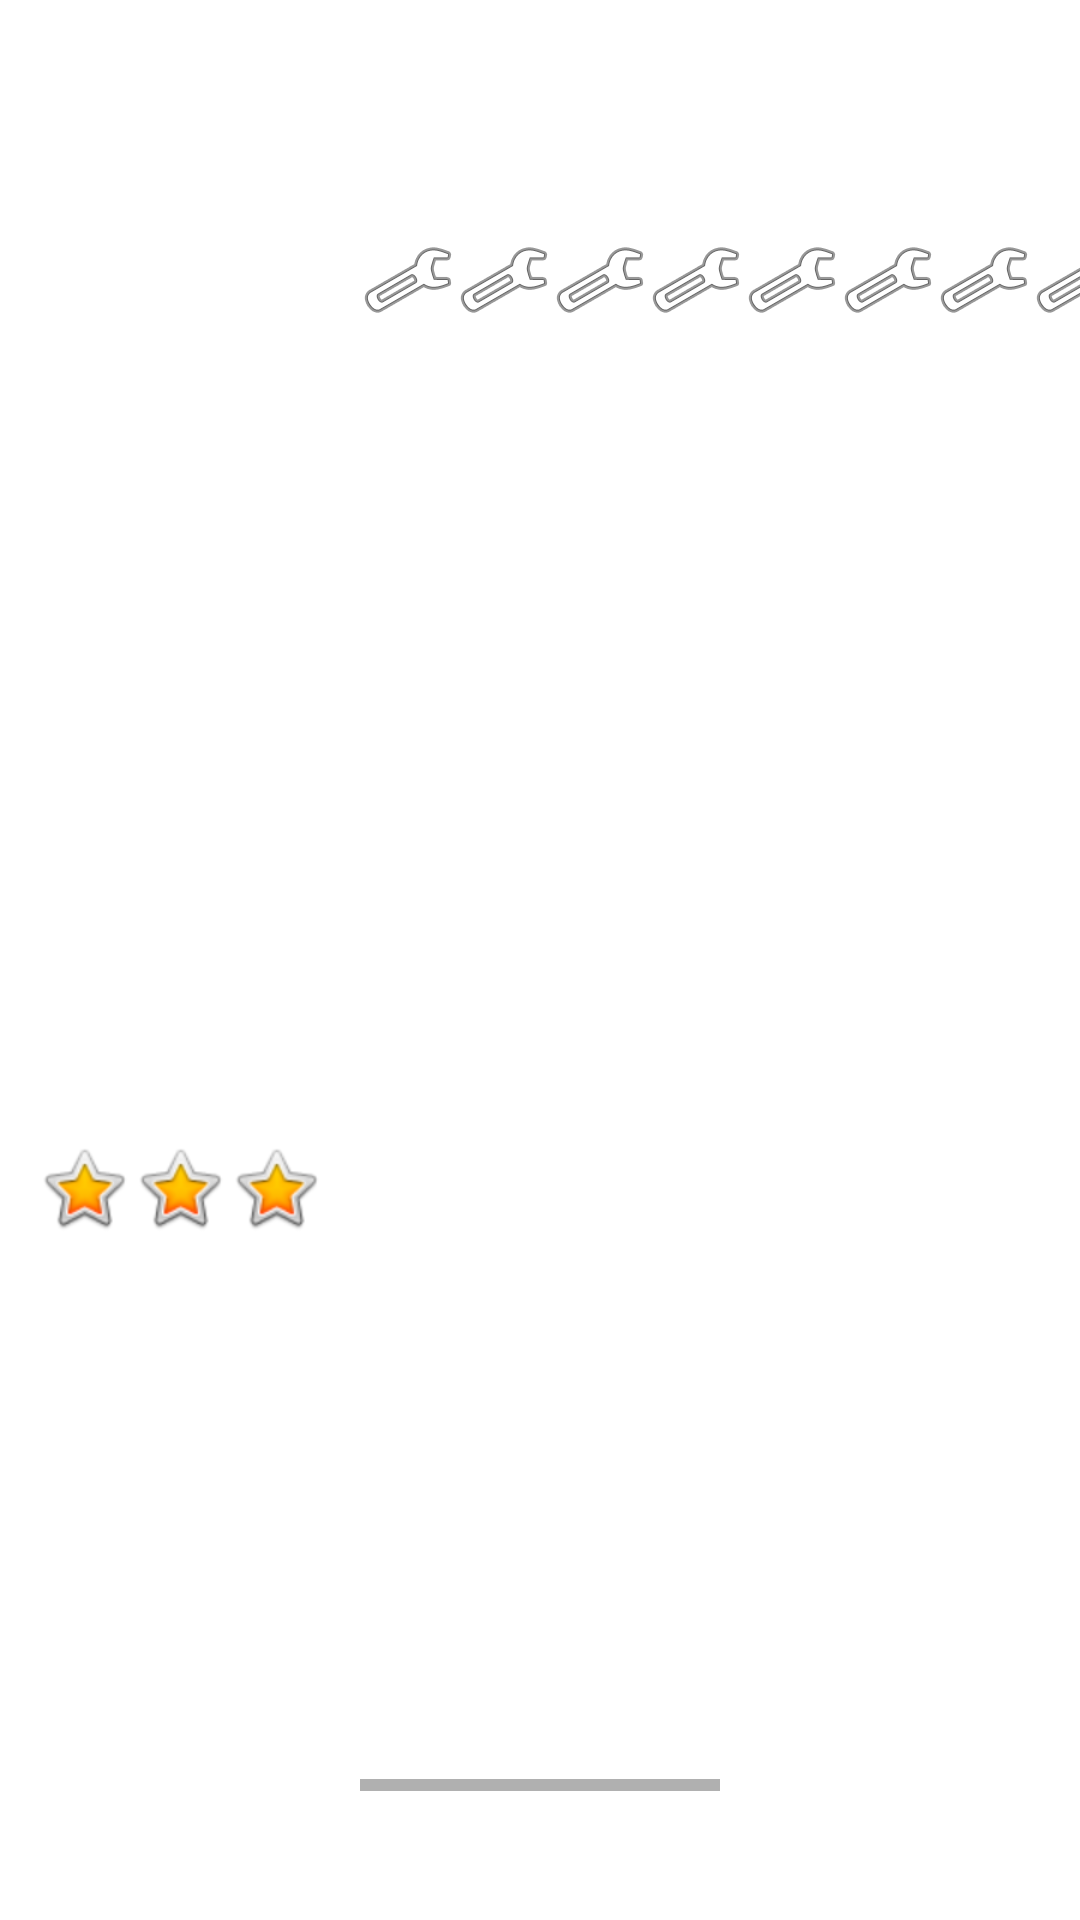

Screen size 1080*1920. Icon name, then its center in pixels as [x,y]:
star on: [85,1189], [181,1189], [277,1189]
